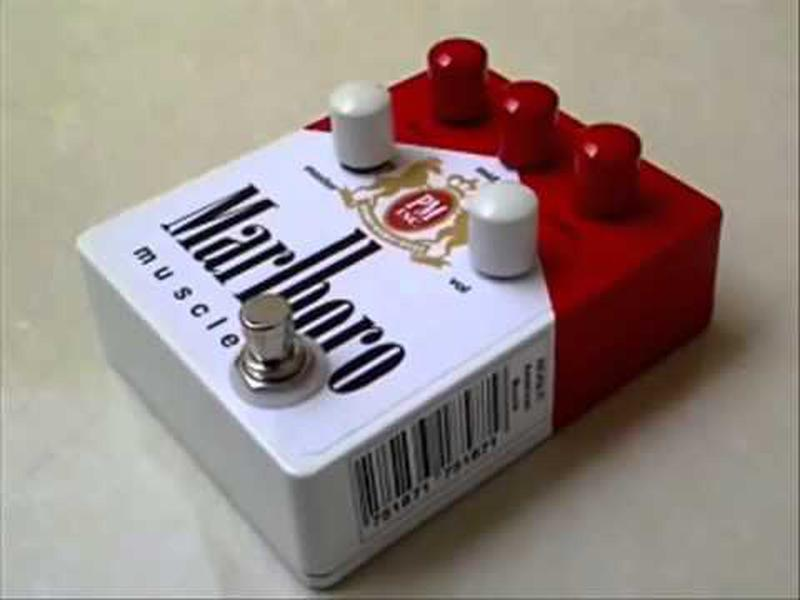marlboro_red: (179, 87, 646, 409)
